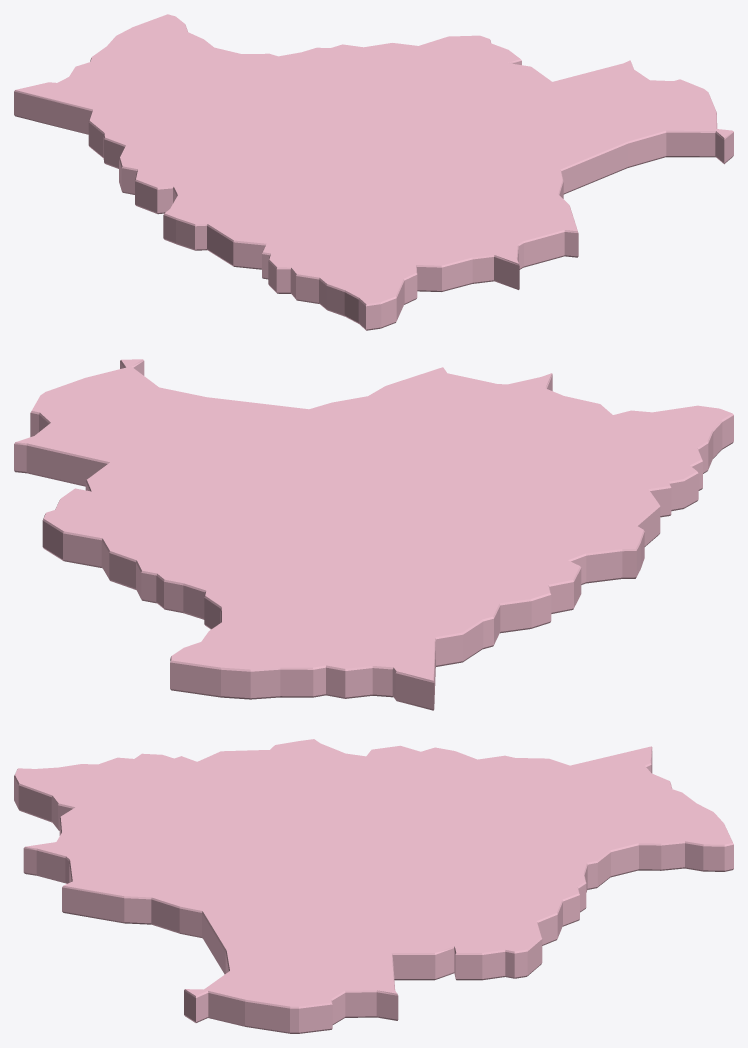
The model's file is BOL.glb.
3 views of the same model, one above another, from view 1: azimuth 30°, elevation 25°; view 2: azimuth 150°, elevation 25°; view 3: azimuth 270°, elevation 25° (orthographic). The views are drawn at different scales.
Size of the model in its own units: 1.44 by 0.068 by 1.63.
